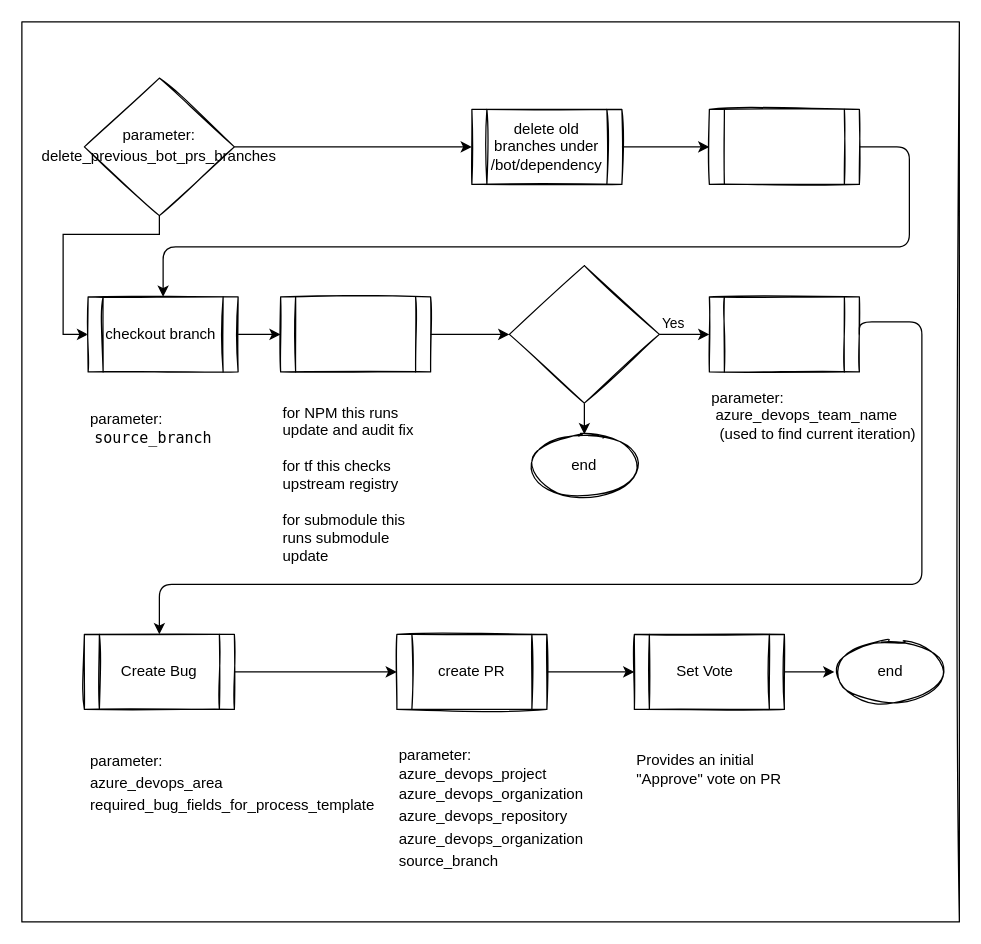
Image size: 981x944. Some labels were removed from this diagram. Here are the shapes that lost their labels. From the top down, the centre of each, then its label:
At pixel 783 146: "abandon old PRs created previously by this bot".
At pixel 355 334: "update".
At pixel 583 333: "updates found".
At pixel 783 334: "Create New Branch".
